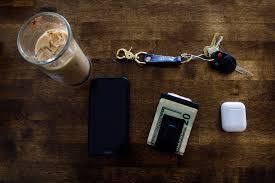keys: (114, 45, 257, 78)
